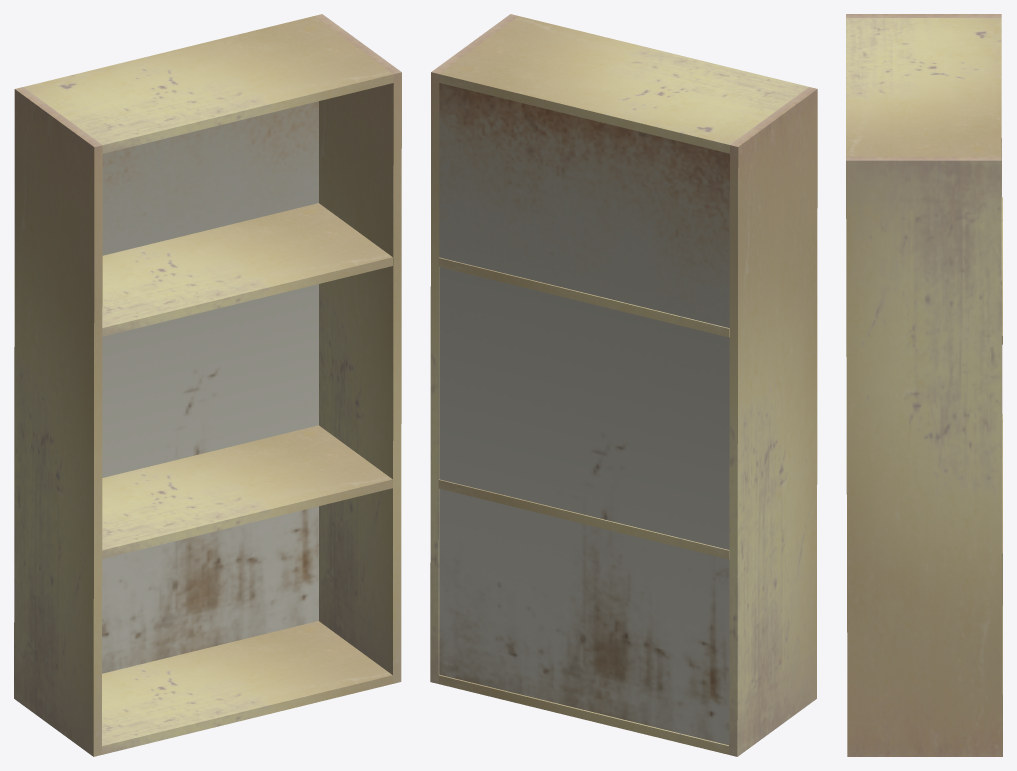
Rendered from cabin02a.fbx.
The picture shows the model from 3 angles, left to right: view 1: azimuth 30°, elevation 25°; view 2: azimuth 150°, elevation 25°; view 3: azimuth 270°, elevation 25°; orthographic projection. The views are drawn at different scales.
Parts seen in each view (by area): view 1: cabin02a; view 2: cabin02a; view 3: cabin02a.
Boxes of the visible parts, x1,y1,x2,y2 form: cabin02a: (14,14,401,756); cabin02a: (430,14,817,756); cabin02a: (846,14,1002,756).
Size of the model in its own units: 73.97 by 140 by 33.45.
